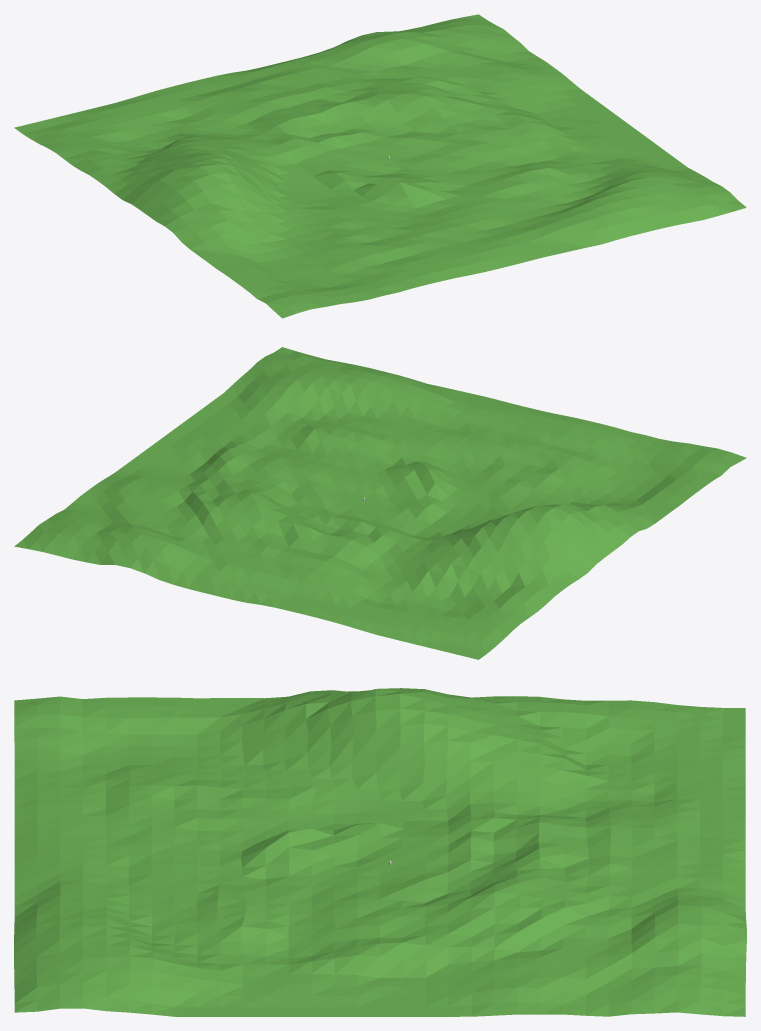
Rendered from map.fbx.
3 views of the same model, one above another, from view 1: azimuth 30°, elevation 25°; view 2: azimuth 150°, elevation 25°; view 3: azimuth 270°, elevation 25° (orthographic). The views are drawn at different scales.
Parts seen in each view (by area): view 1: Plane; view 2: Plane; view 3: Plane.
Part boxes in pixels (left/top/right/bottom): Plane: left=14, top=14, right=746, bottom=318; Plane: left=14, top=347, right=746, bottom=659; Plane: left=14, top=688, right=746, bottom=1016.
Size of the model in its own units: 23530 by 1919 by 23538.
